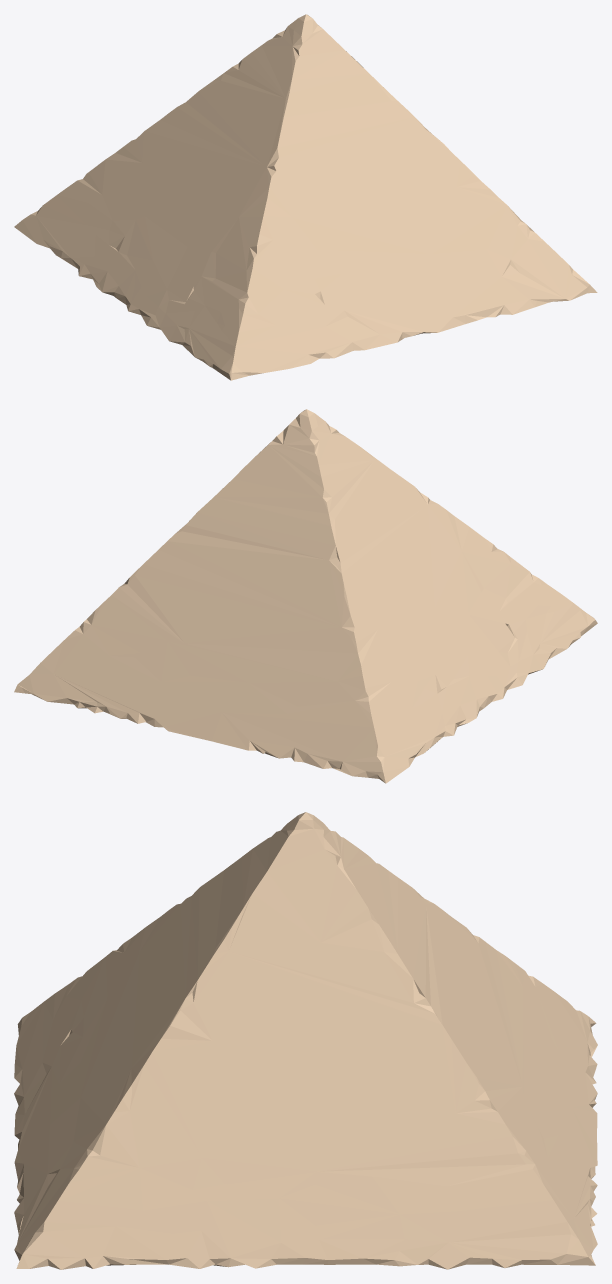
Rendered from low_poly_khafre.glb.
3 views of the same model, one above another, from view 1: azimuth 30°, elevation 25°; view 2: azimuth 150°, elevation 25°; view 3: azimuth 270°, elevation 25° (orthographic). The views are drawn at different scales.
Parts seen in each view (by area): view 1: env_pyr_khafre; view 2: env_pyr_khafre; view 3: env_pyr_khafre.
Part boxes in pixels (box(x1,y1,x2,y2)): env_pyr_khafre: box(14, 14, 597, 380); env_pyr_khafre: box(14, 409, 597, 783); env_pyr_khafre: box(14, 812, 597, 1269).
Bounding box in the file's own units: 21500 × 13600 × 21500.
